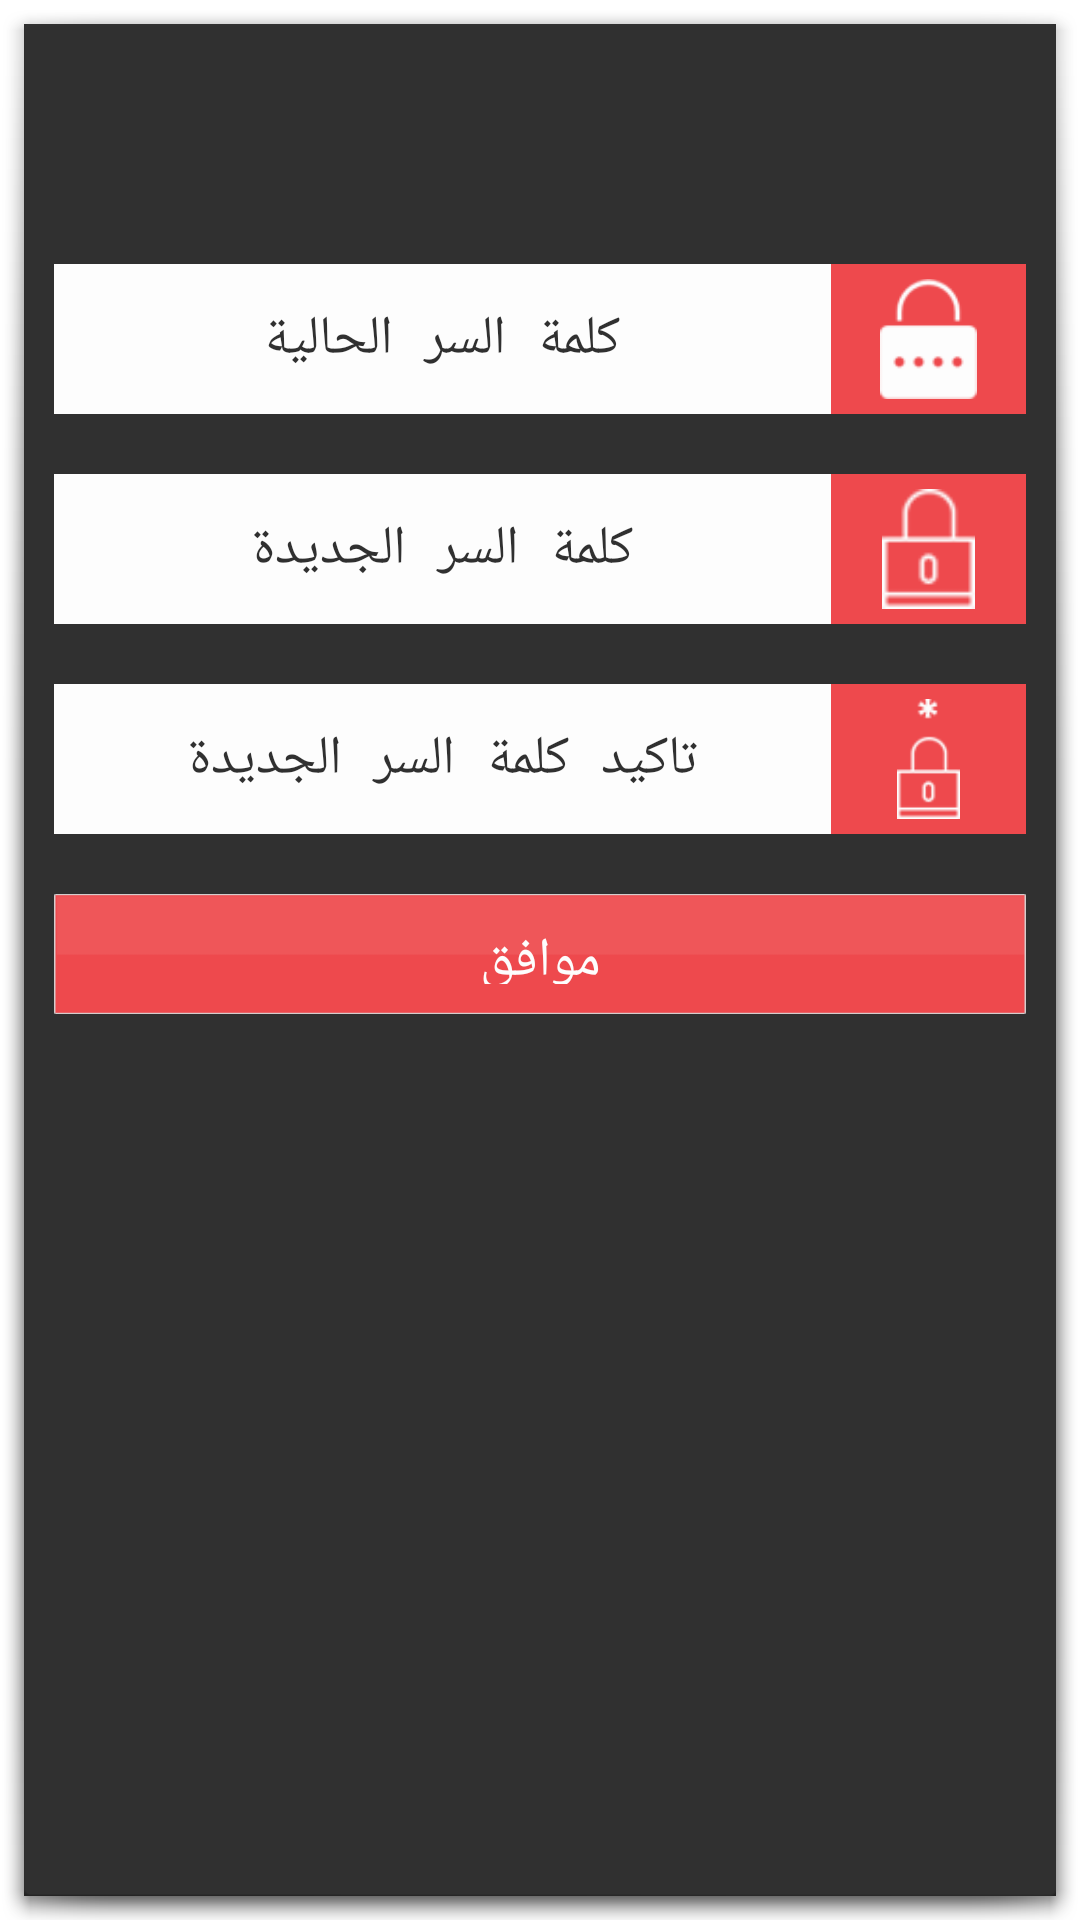

Named icons in this screenshot (1080×1920) and their centers, point (x, y):
feld conform password: point (904, 735)
